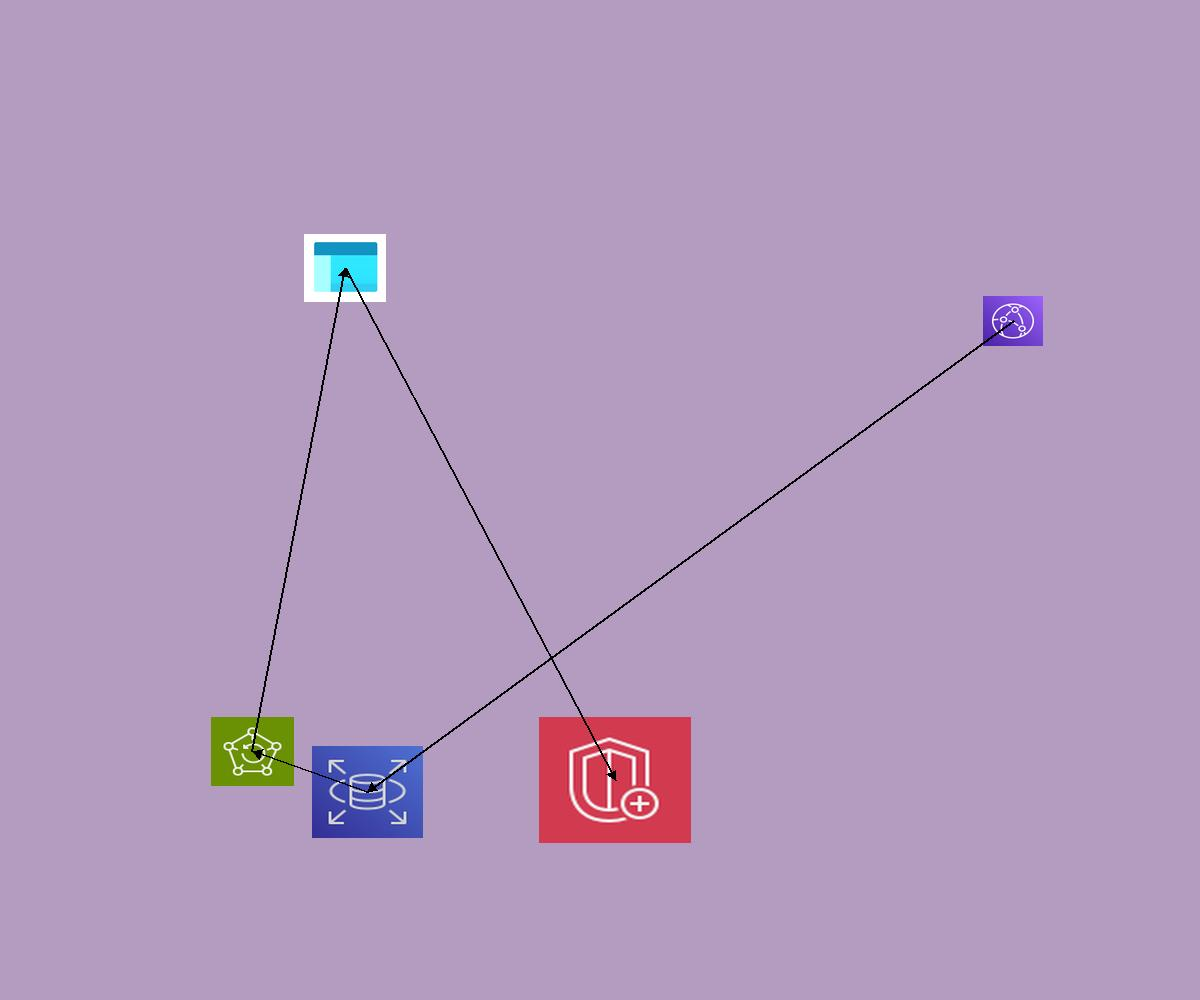AWS-Backup: (211, 717, 294, 786)
AWS-CloudFront: (983, 296, 1043, 346)
AWS-RDS: (312, 746, 423, 838)
AWS-Shield: (539, 717, 691, 843)
Azure_management-portal: (304, 234, 386, 302)
